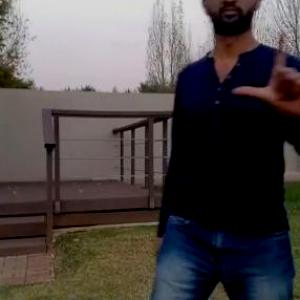land_hand: (220, 22, 300, 125)
